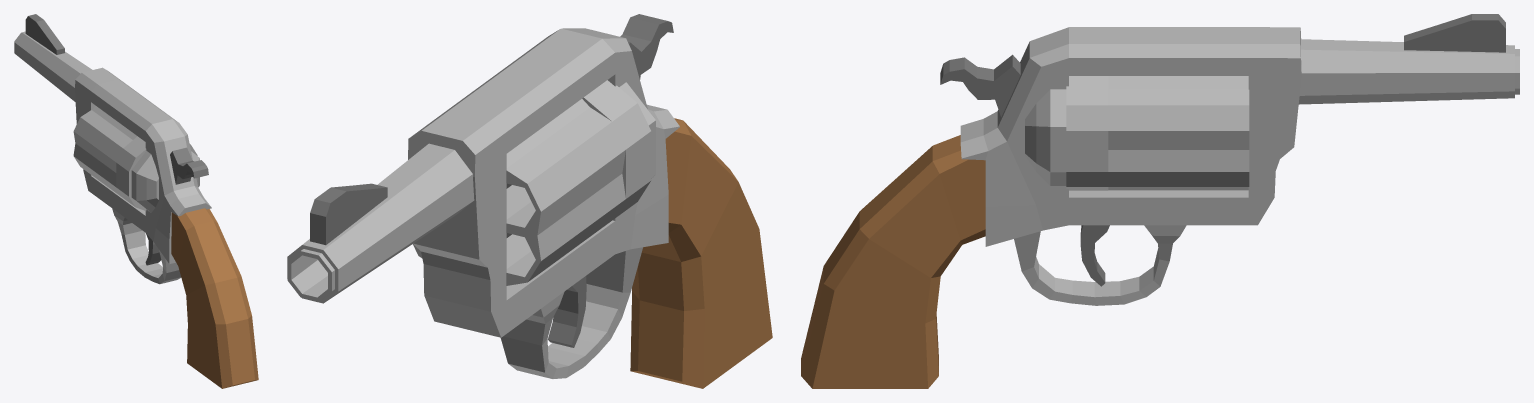
File: Revolver-A-Short.fbx
The picture shows the model from 3 angles, left to right: view 1: azimuth 30°, elevation 25°; view 2: azimuth 150°, elevation 25°; view 3: azimuth 270°, elevation 25°; orthographic projection. The views are drawn at different scales.
Visible parts, largest first — view 1: BigIron; view 2: BigIron; view 3: BigIron.
Boxes of the visible parts, x1,y1,x2,y2 form: BigIron: (14, 14, 258, 388); BigIron: (287, 14, 772, 388); BigIron: (801, 14, 1519, 388).
Size of the model in its own units: 74.18 by 224 by 409.
